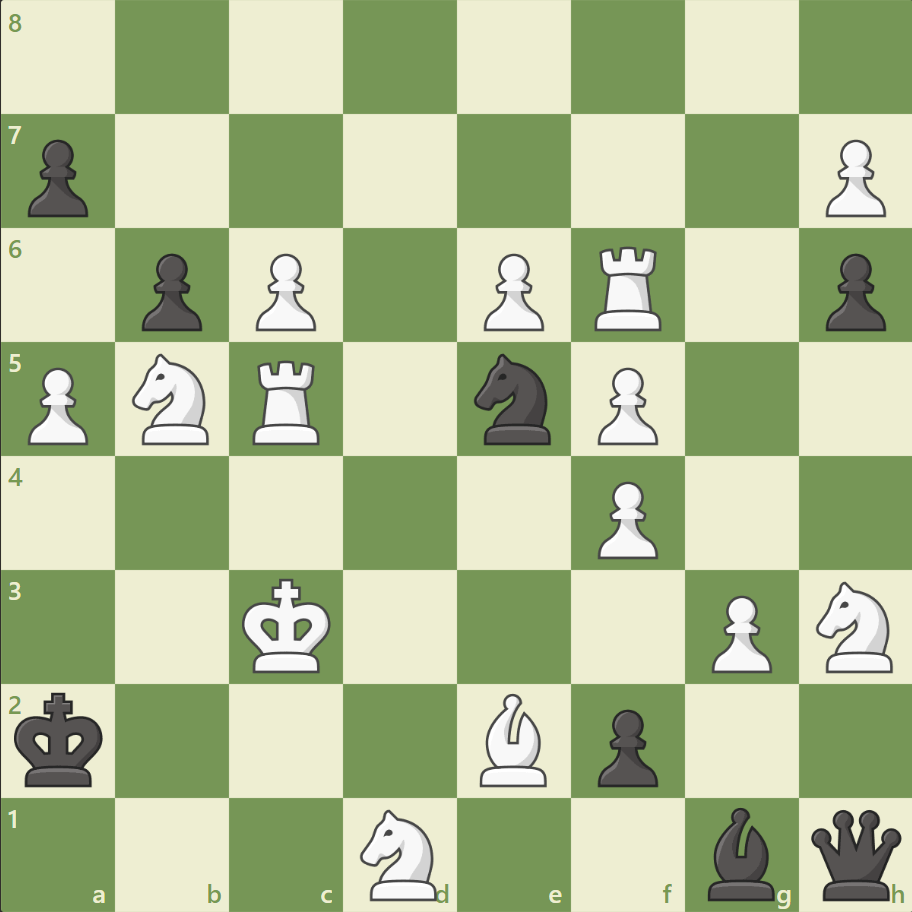B: (471, 687, 555, 790)
K: (238, 571, 338, 679)
N: (124, 348, 222, 450), (351, 802, 449, 904), (806, 575, 903, 677)
P: (247, 246, 322, 337), (474, 246, 549, 337), (20, 359, 95, 450), (701, 586, 776, 677), (815, 132, 889, 223), (588, 359, 662, 450), (588, 473, 662, 564)
R: (587, 239, 670, 336), (246, 352, 329, 449)
b: (698, 801, 782, 904)
k: (11, 685, 111, 793)
n: (465, 348, 562, 450)
p: (20, 132, 95, 223), (133, 246, 208, 337), (815, 246, 889, 337), (588, 700, 662, 791)
q: (805, 804, 904, 903)
